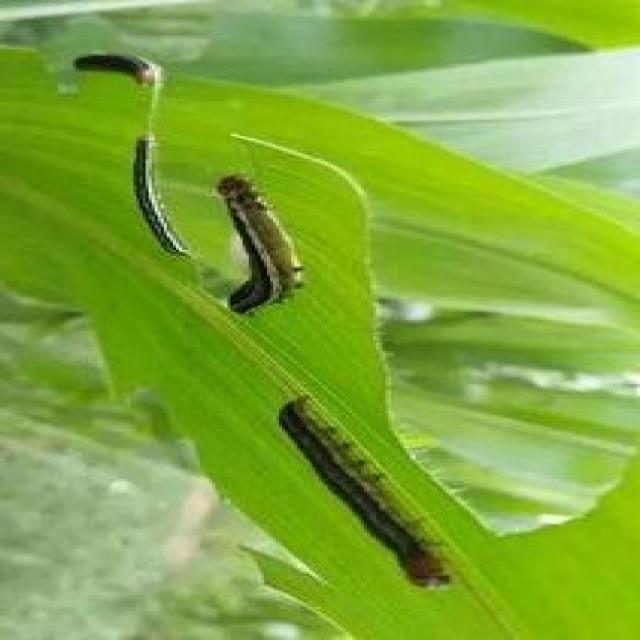army worm: (276, 392, 467, 593), (212, 171, 306, 326), (129, 133, 202, 265), (67, 48, 167, 87)
